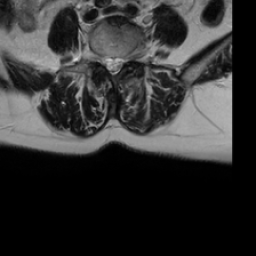CCS_normal: (110, 52, 115, 80)
LFS_normal: (123, 45, 130, 69)
LLS_normal: (115, 50, 121, 78)
RFS_normal: (96, 47, 103, 71)
RLS_normal: (103, 50, 110, 75)
